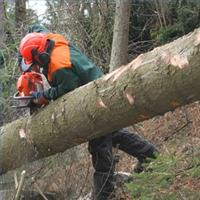person: (18, 24, 162, 200)
